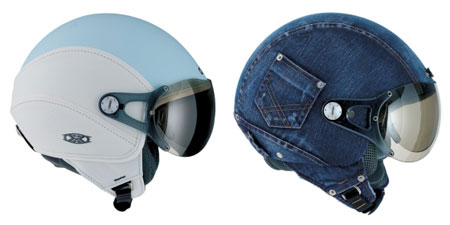with_helmet: (7, 13, 215, 193), (234, 11, 444, 186)
